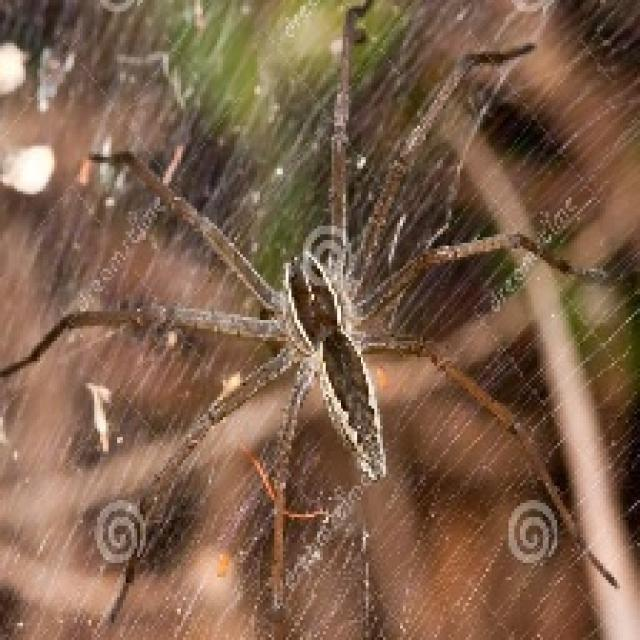Non venomous spider: (23, 0, 614, 637)
